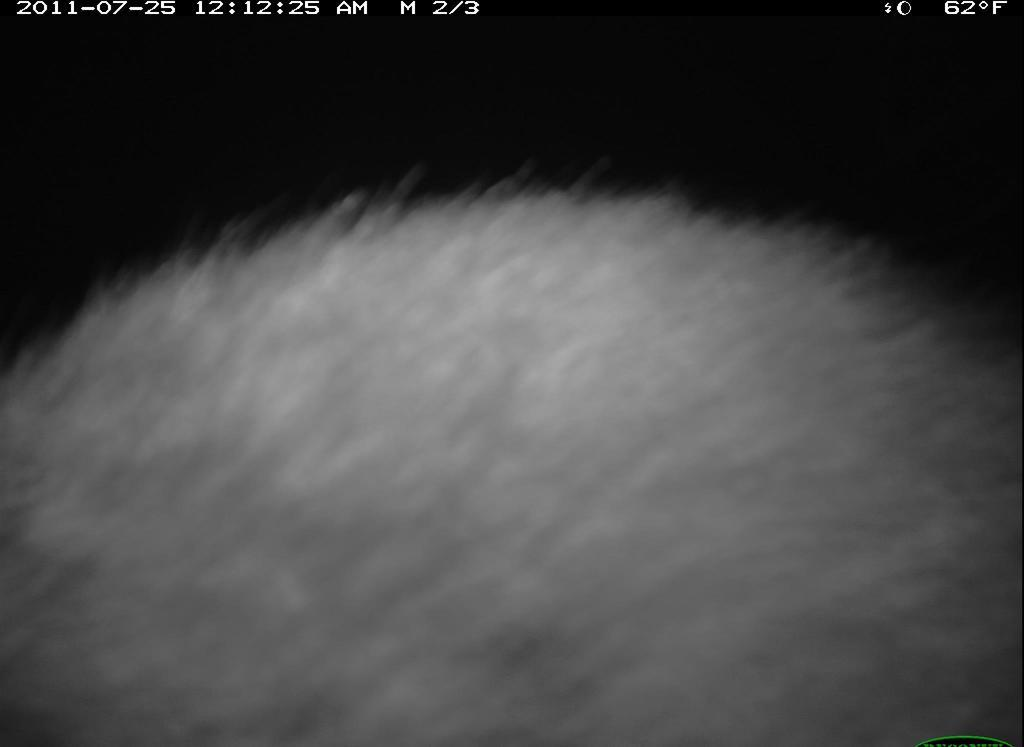raccoon: (3, 141, 1022, 745)
